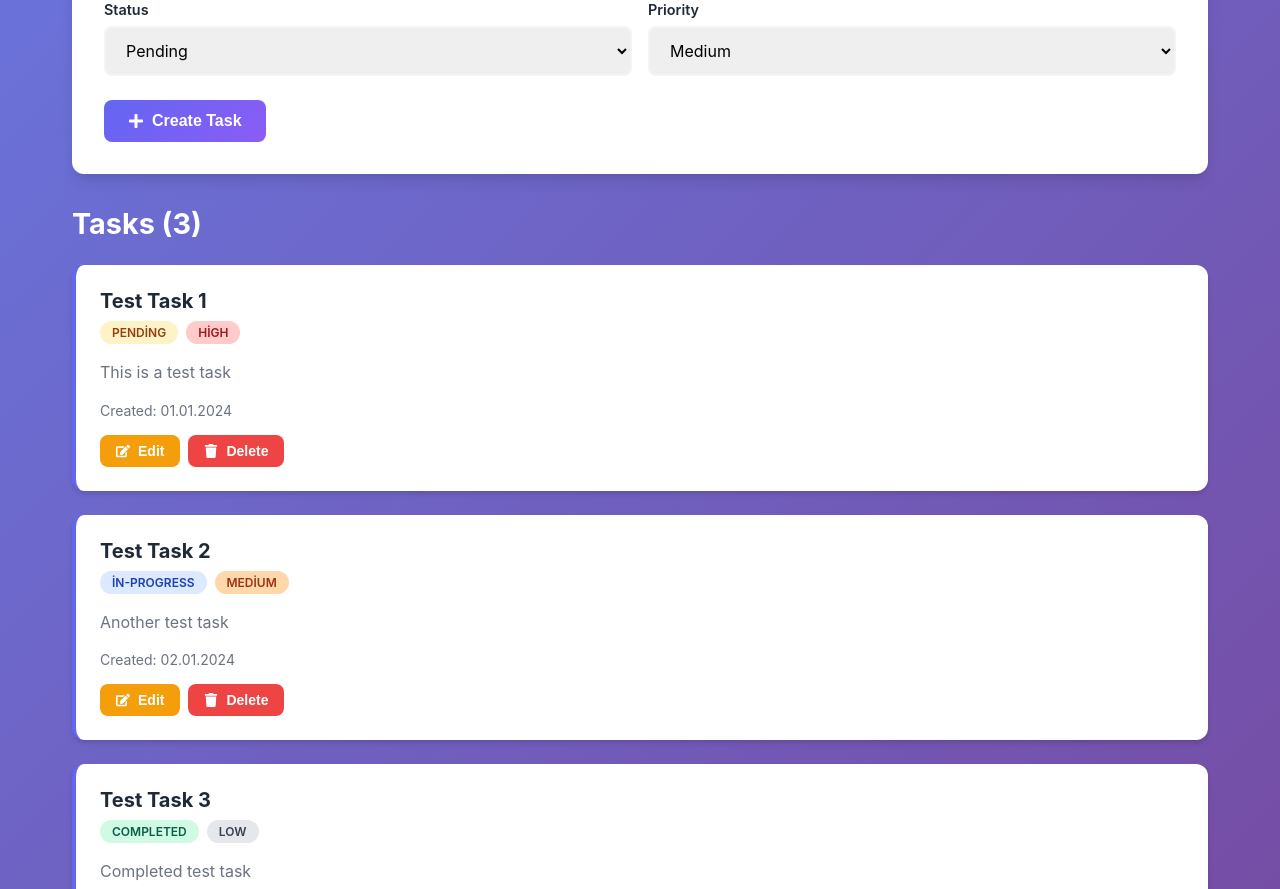
Test case: App Component Tests › Edit Task Functionality › should cancel edit mode
This screenshot has width=1280, height=889.
(page scrolled)
# Enter edit mode
What coordinates should you click on to do the following:
click the button "Edit" below "01.01.2024"
I would click on:
 (140, 451)
Its box is [100, 435, 180, 467].
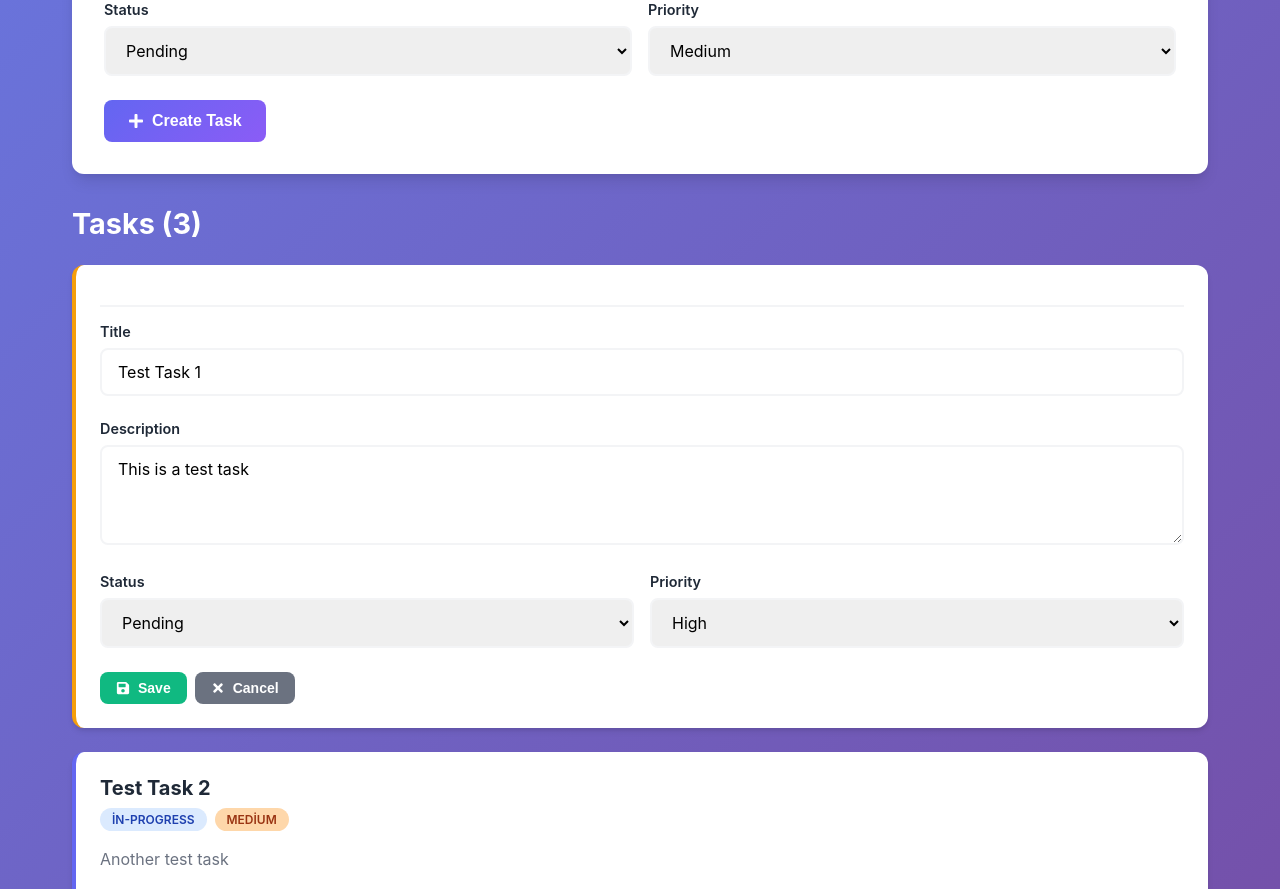
Check: the button "Cancel" is shown
What coordinates should you click on to do the following:
click the button "Cancel"
I would click on:
 (245, 688)
Its box is [195, 672, 295, 704].
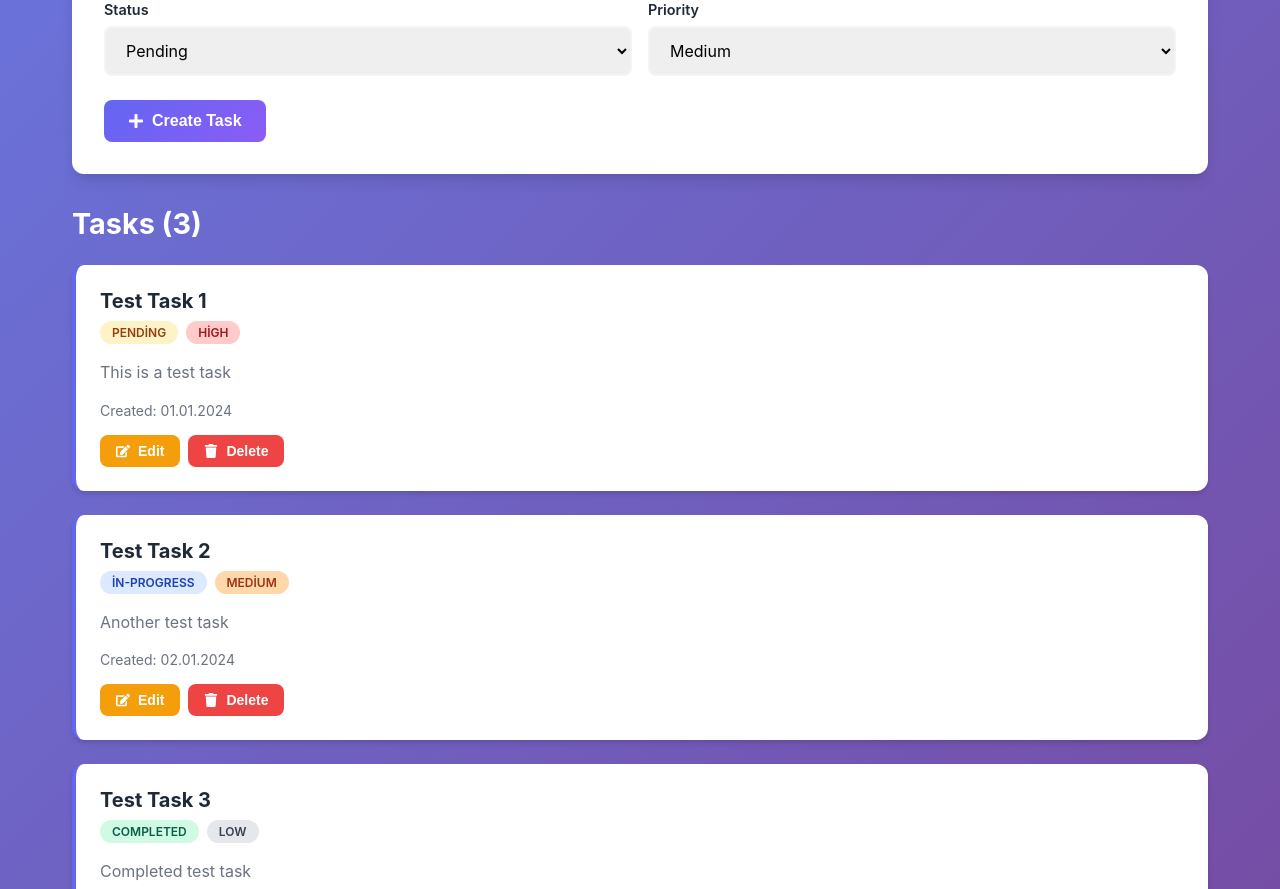
Check: the button "Save" is gone
